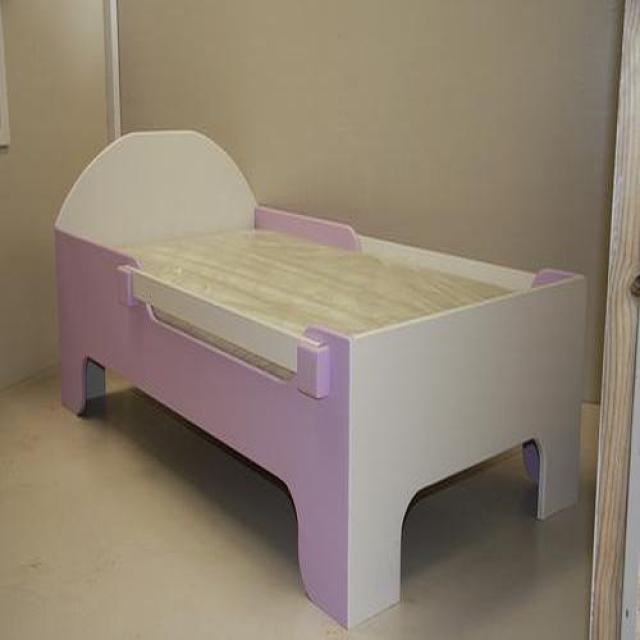bed: (52, 132, 588, 630)
